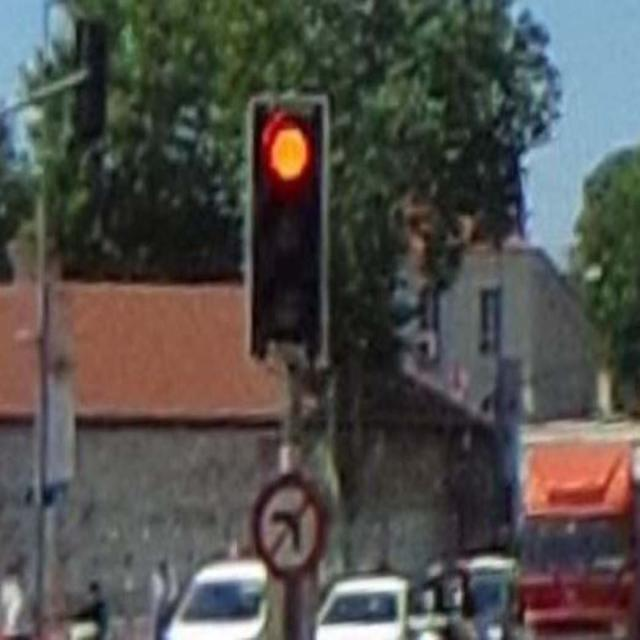kirmizi: (255, 104, 325, 362)
soladonulmez: (252, 476, 330, 582)
